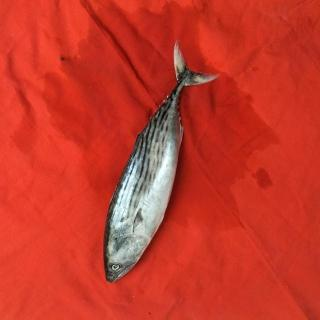Ikan: (97, 42, 219, 290)
